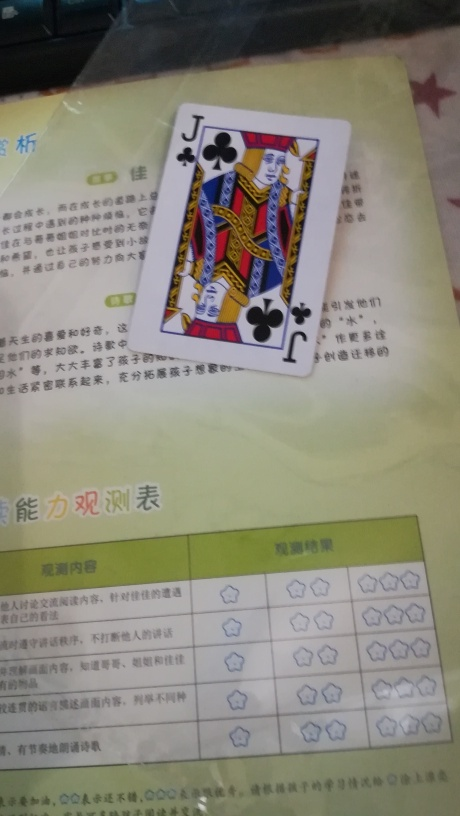mh j: (126, 97, 352, 382)
